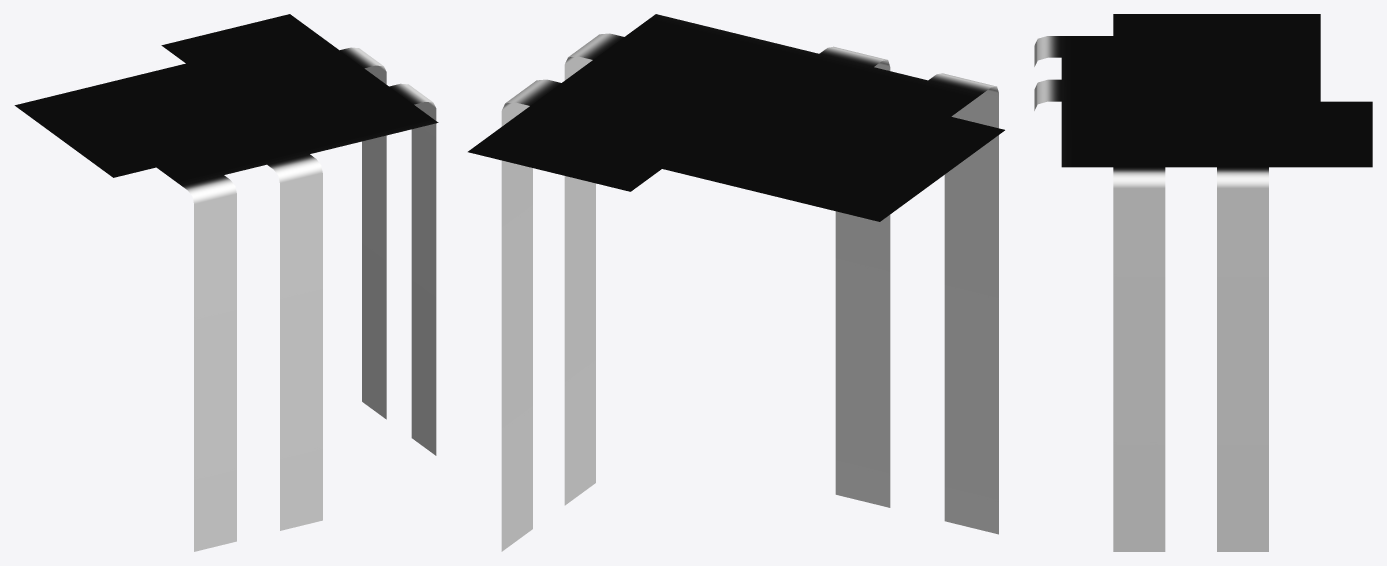
File: PuzzleRoom1Water_MESH.fbx
3 views of the same model, side by side, from view 1: azimuth 30°, elevation 25°; view 2: azimuth 150°, elevation 25°; view 3: azimuth 270°, elevation 25° (orthographic). The views are drawn at different scales.
Parts seen in each view (by area): view 1: polySurface18; view 2: polySurface18; view 3: polySurface18.
Boxes of the visible parts, x1,y1,x2,y2 form: polySurface18: (14,14,438,551); polySurface18: (468,14,1004,551); polySurface18: (1034,14,1372,551).
Size of the model in its own units: 7.52 by 7.95 by 6.52.
